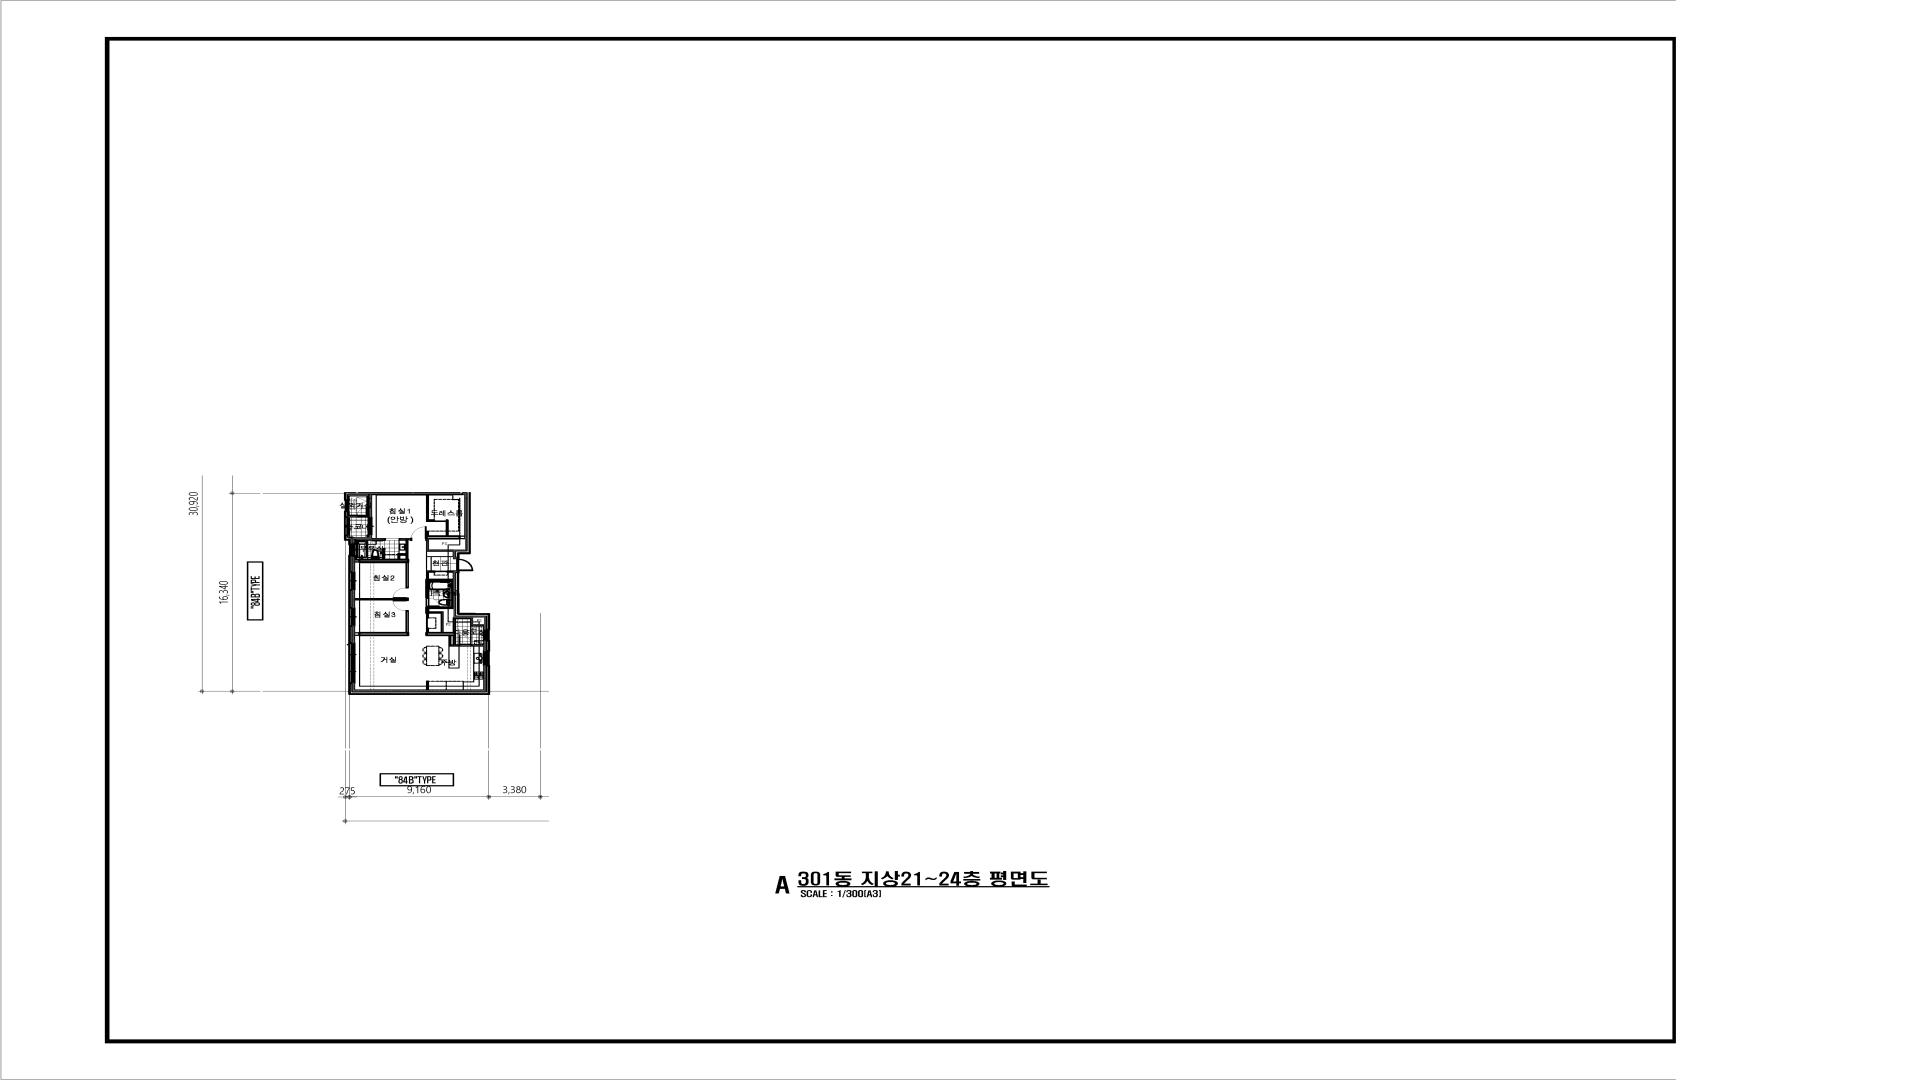door: (456, 559, 473, 571), (411, 526, 425, 541), (459, 634, 472, 646), (393, 588, 409, 597), (393, 601, 409, 611), (371, 541, 385, 549), (357, 508, 367, 518), (426, 599, 439, 605)
wall: (344, 492, 462, 545), (372, 493, 465, 539), (348, 665, 491, 695), (425, 605, 484, 646), (454, 571, 491, 630), (347, 493, 386, 545), (355, 559, 409, 588), (355, 611, 409, 636), (454, 492, 471, 559), (425, 579, 454, 599), (425, 539, 452, 553), (397, 538, 411, 560), (355, 597, 409, 601), (348, 625, 355, 644), (348, 589, 355, 608), (348, 555, 355, 572), (483, 641, 491, 651), (426, 571, 435, 579), (382, 549, 385, 559), (472, 644, 483, 646), (426, 680, 429, 690), (447, 571, 454, 572)
window: (348, 644, 356, 682), (348, 572, 356, 589), (348, 608, 356, 625), (483, 651, 489, 665), (368, 517, 372, 535), (349, 545, 356, 555), (483, 630, 489, 641)
